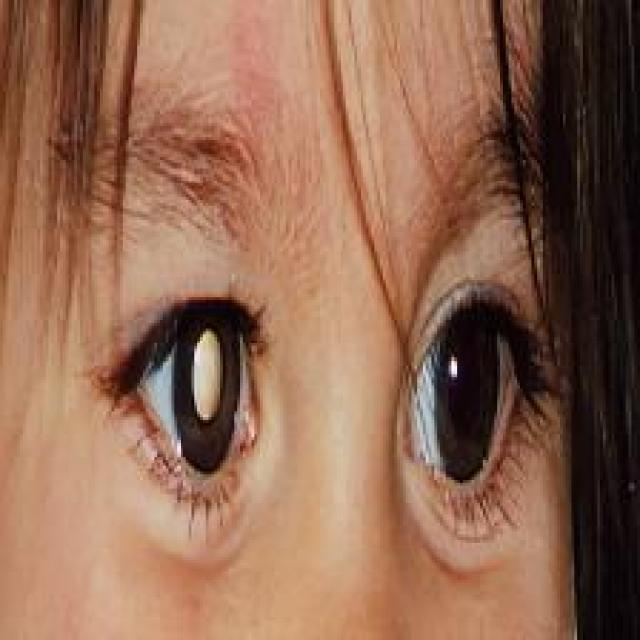reflexo-alterado: (124, 283, 286, 548), (410, 296, 543, 515)
